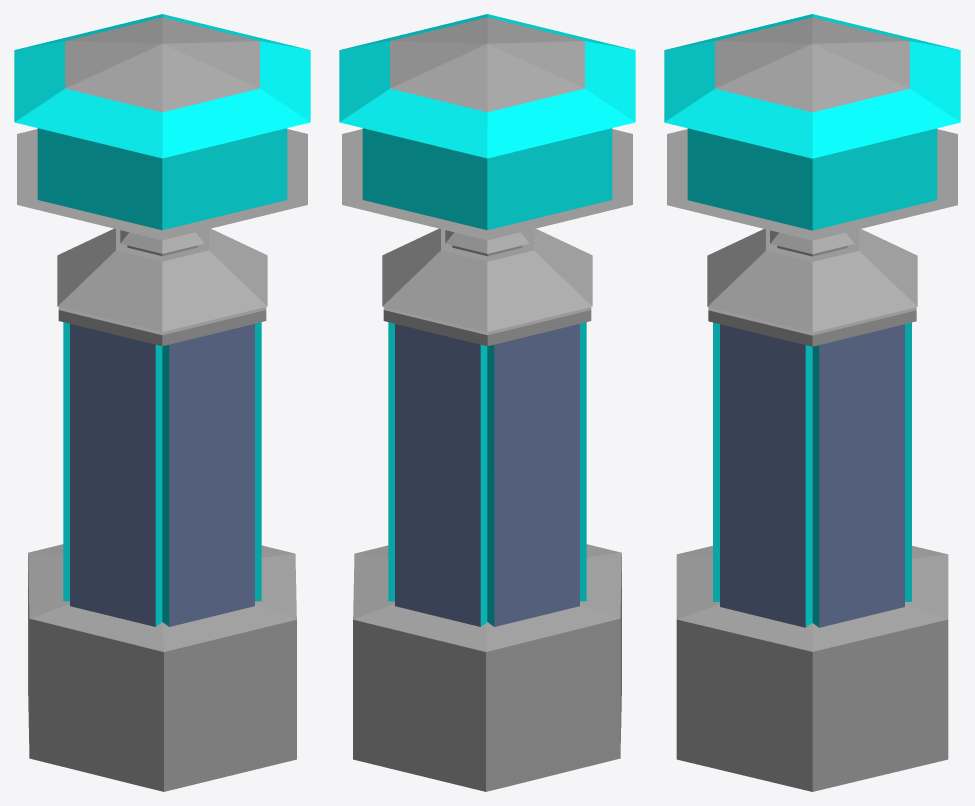
Rendered from Tower2.fbx.
3 renders of one model, left to right at view 1: azimuth 30°, elevation 25°; view 2: azimuth 150°, elevation 25°; view 3: azimuth 270°, elevation 25°, orthographic.
Visible parts, largest first — view 1: Tower2; view 2: Tower2; view 3: Tower2.
Boxes of the visible parts, x1,y1,x2,y2 form: Tower2: (14, 14, 310, 791); Tower2: (339, 14, 635, 791); Tower2: (664, 14, 960, 791).
Size of the model in its own units: 146 by 321 by 126.
